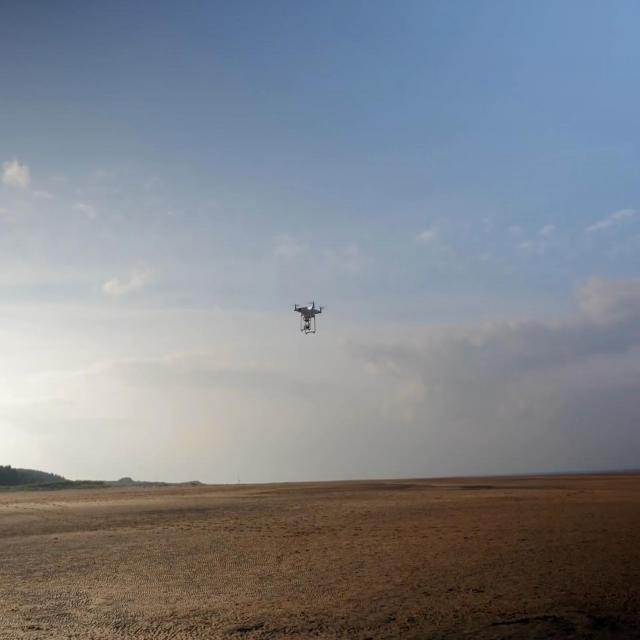drones: (283, 291, 334, 346)
